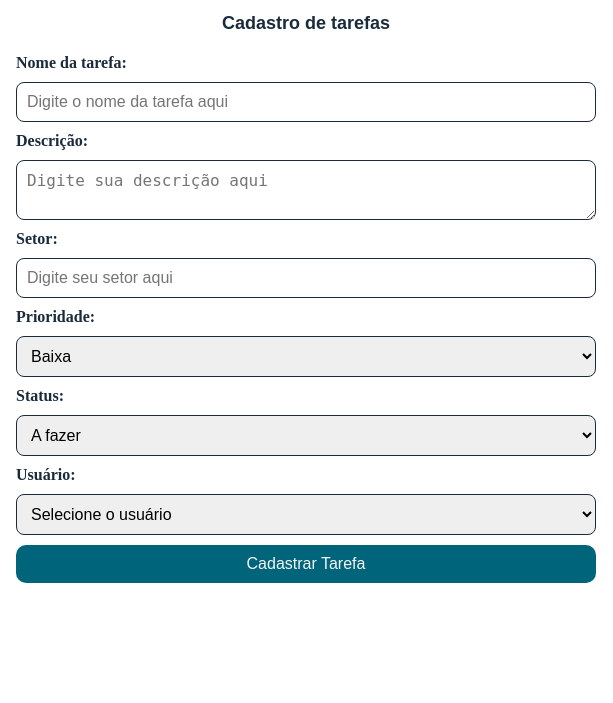
Cadastro de tarefa › deve mostrar erro se descrição tiver menos de 10 caracteres
Type "curto" into the text box labelled "Descrição:" at (306, 190), box [16, 160, 596, 220]
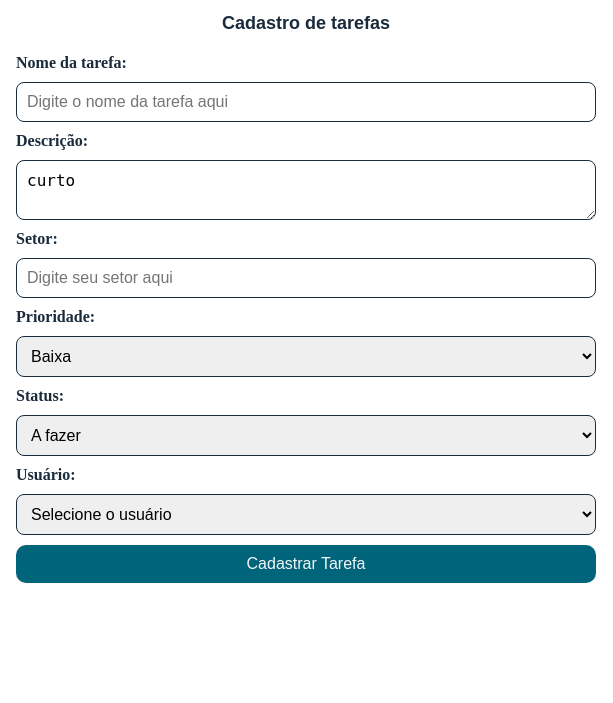
Click the button "Cadastrar Tarefa" at (306, 564), box [16, 545, 596, 583]
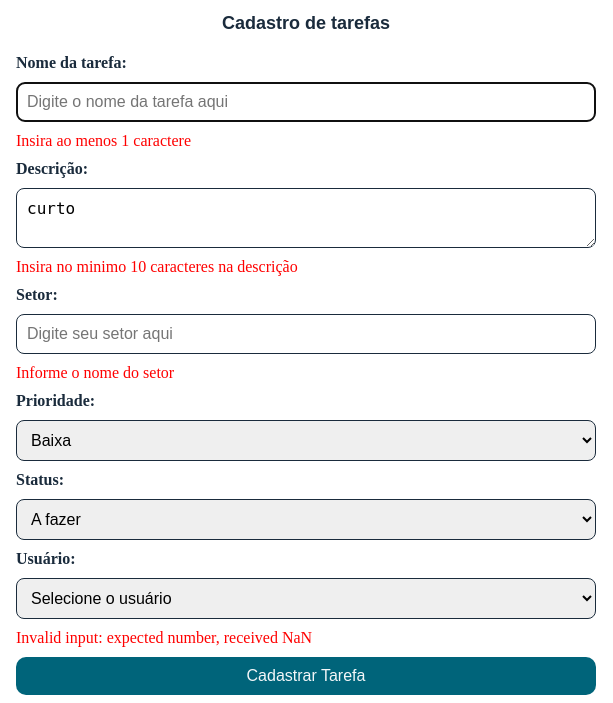
expect the text "Insira no minimo 10 caracteres na descrição" is shown: met, box [16, 258, 298, 275]
